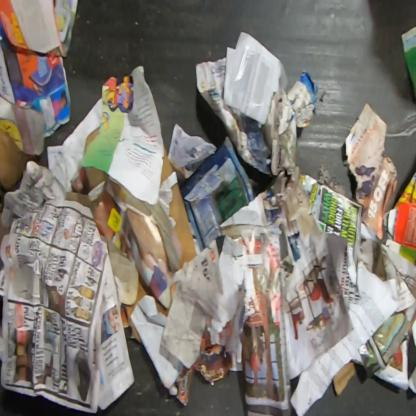cardboard: (126, 142, 198, 280), (0, 118, 38, 192), (332, 361, 356, 396), (82, 166, 110, 192), (84, 127, 100, 153)
